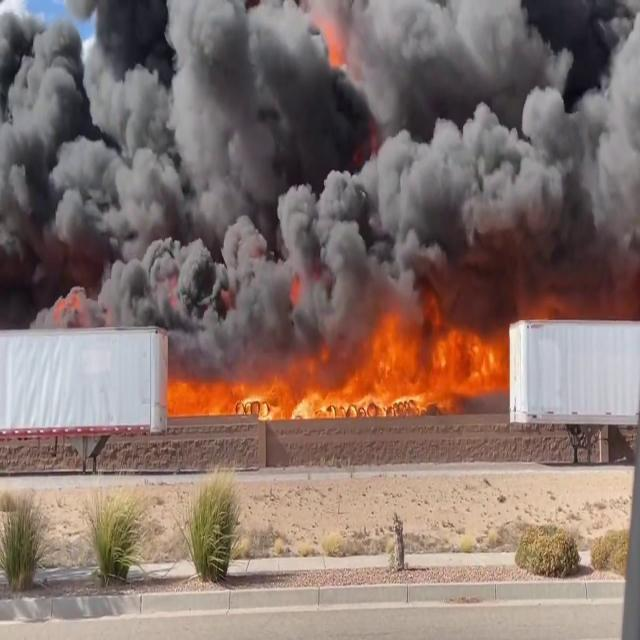Fire: (169, 297, 507, 419)
Smoke: (1, 0, 637, 311)
